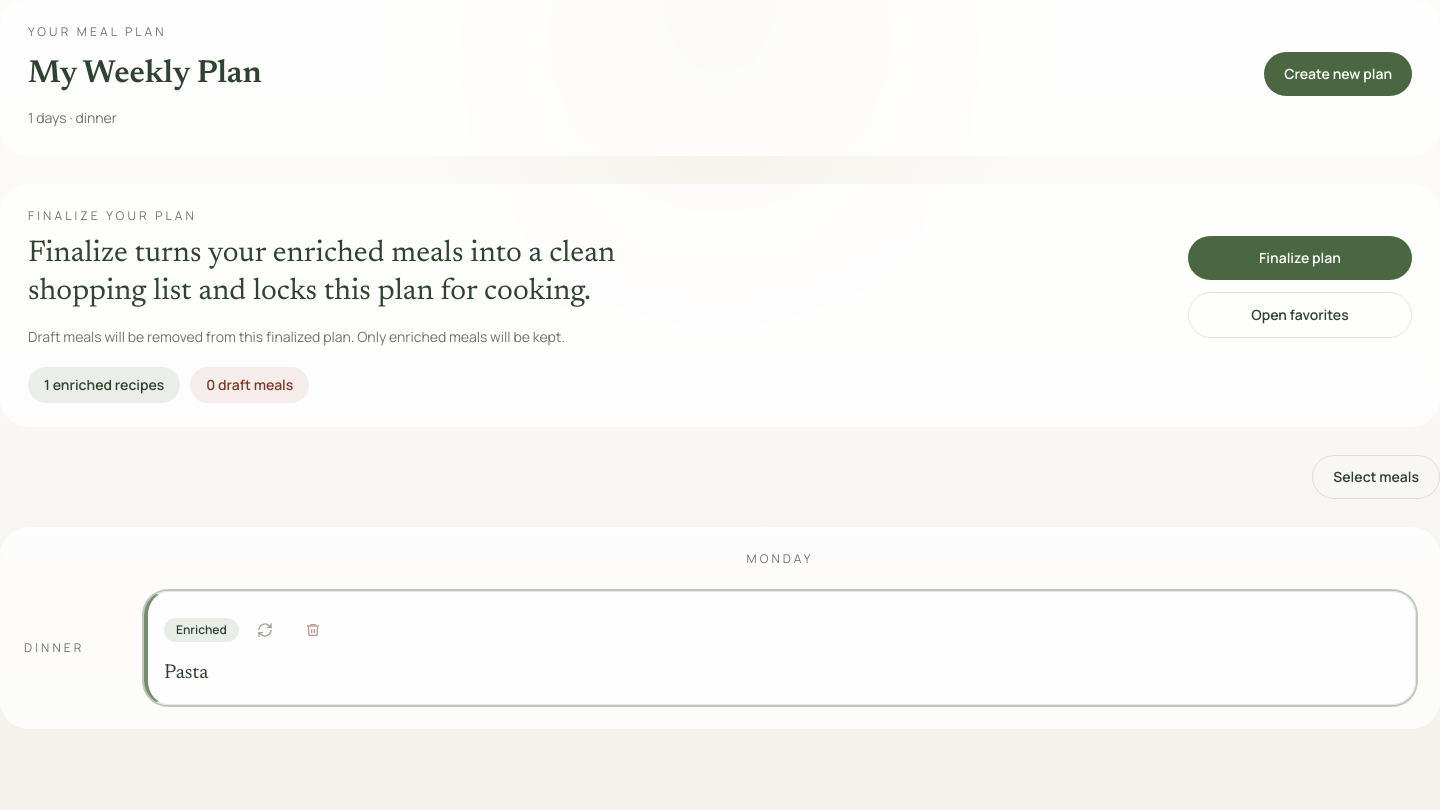
Scenario: PlanPage — persisted plan mode › rechecks finalize eligibility before submitting and blocks stale finalize requests
Click the button "Finalize plan".
click(1300, 258)  # box top-left (1188, 236), bottom-right (1412, 280)
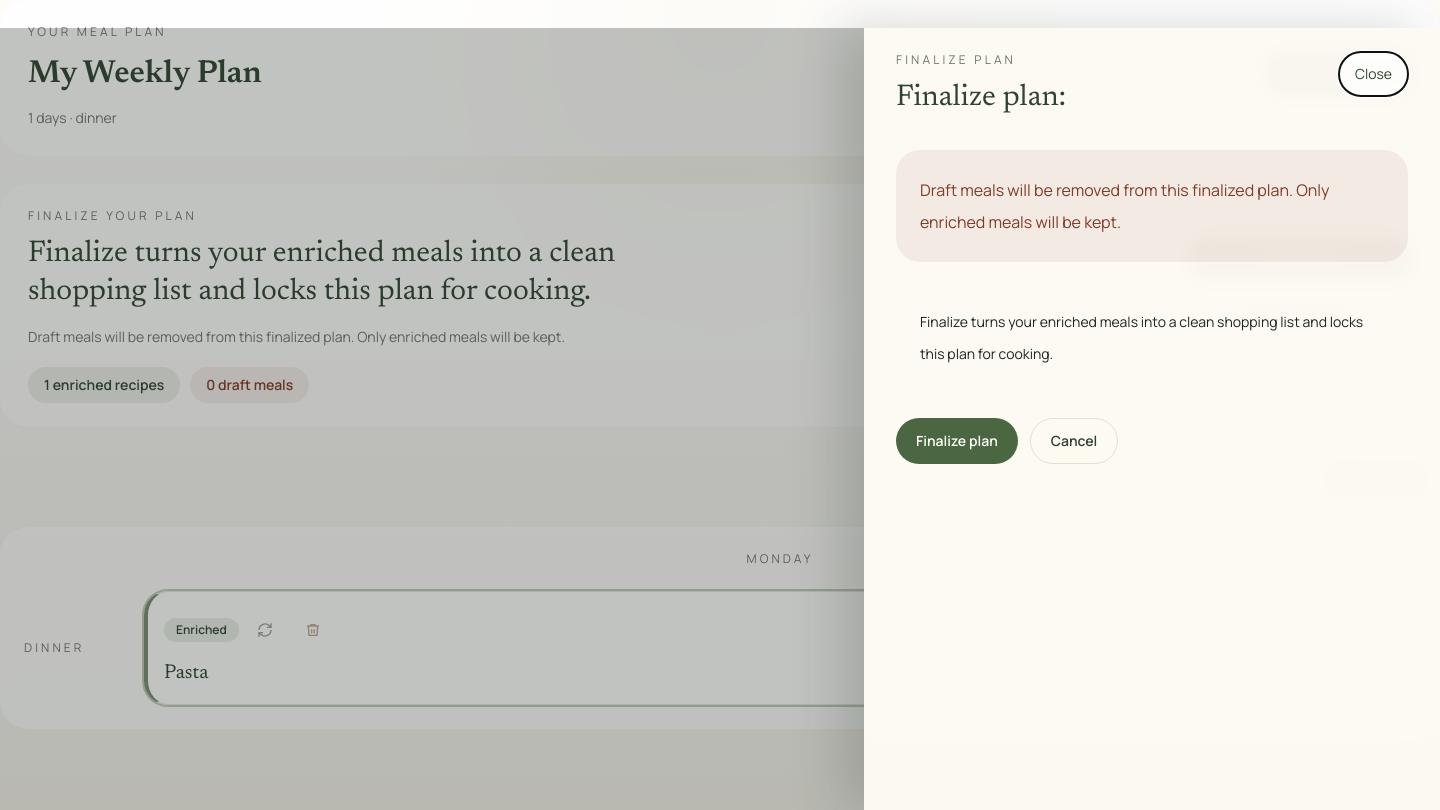
Click the button "Finalize plan".
click(957, 440)  # box top-left (896, 418), bottom-right (1018, 464)
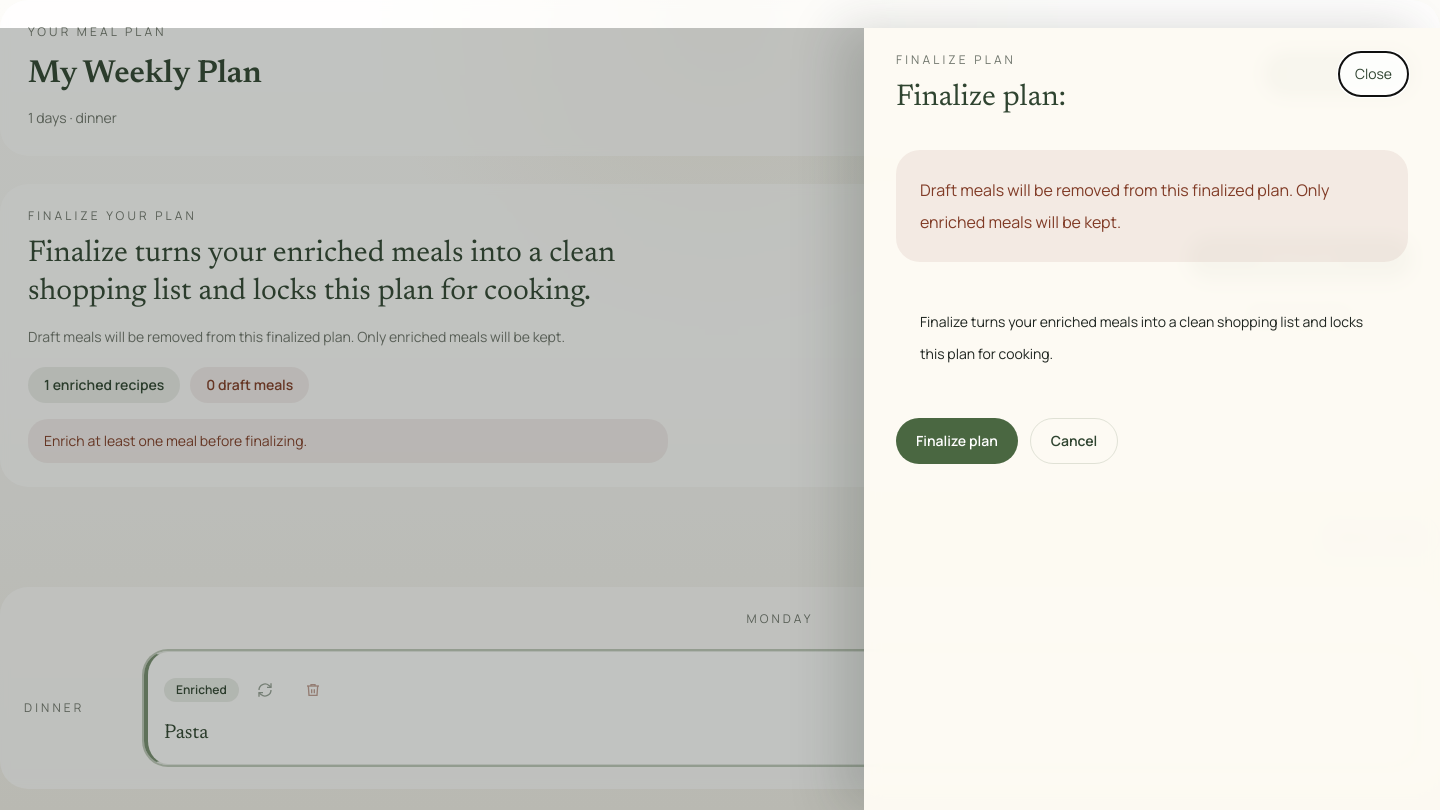
Result: the text "Enrich at least one meal before finalizing." is shown at top-left (28, 419), bottom-right (668, 463)
